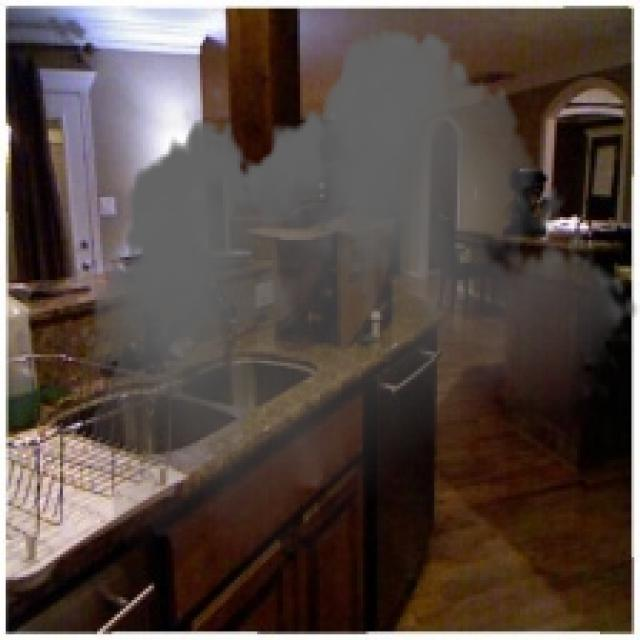Smoke: (80, 8, 637, 580)
